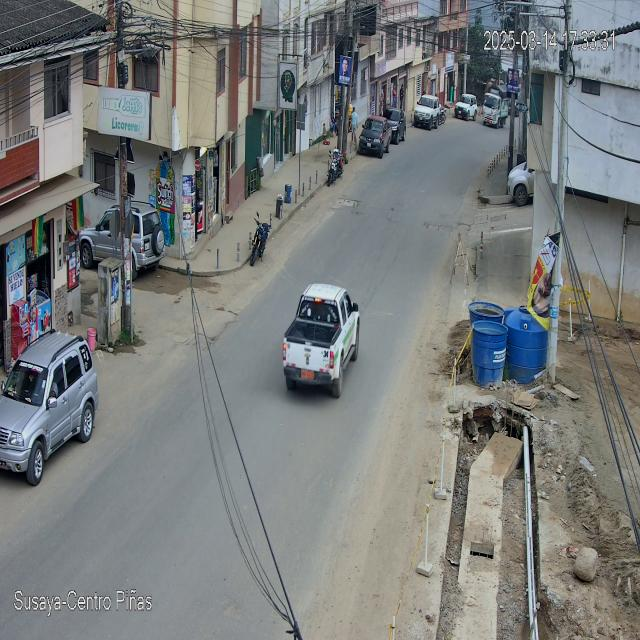CMT: (282, 284, 360, 400)
